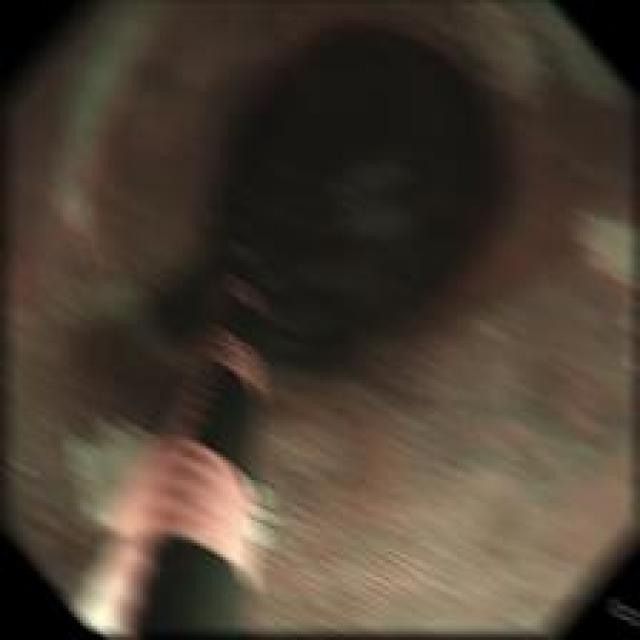blur: (5, 4, 639, 632), (81, 225, 265, 632), (315, 150, 435, 260), (565, 199, 635, 302)
contrast: (152, 12, 549, 395)
instrument: (80, 225, 265, 632)
